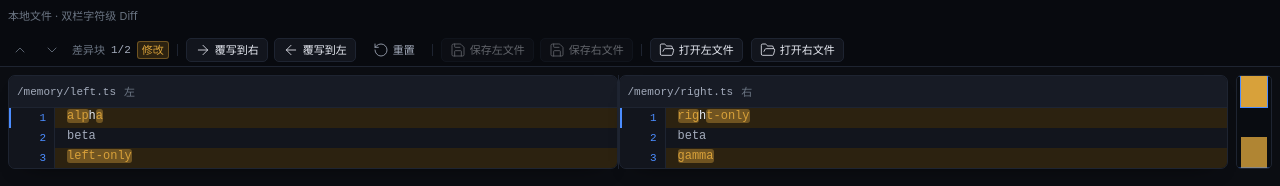
it: unsaved side labels › names exactly the dirty sides in Chinese
What coordinates should you click on to do the following:
click the button "覆写到左"
I would click on:
 (315, 50)
Its box is [274,38,356,62].
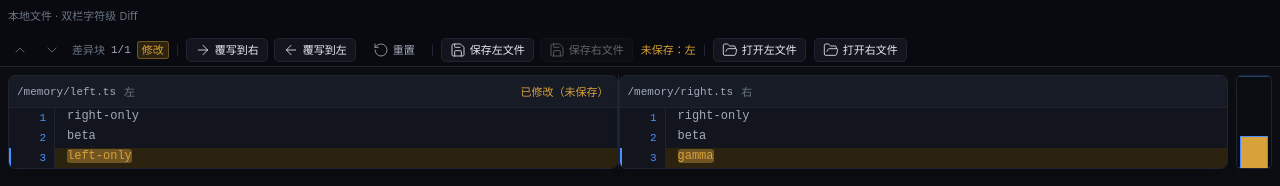
Result: the text "未保存：左" is shown at [641,42,696,58]
What coordinates should you click on to do the following:
click the button "重置"
I would click on:
 (394, 50)
Its box is [364,38,424,62].
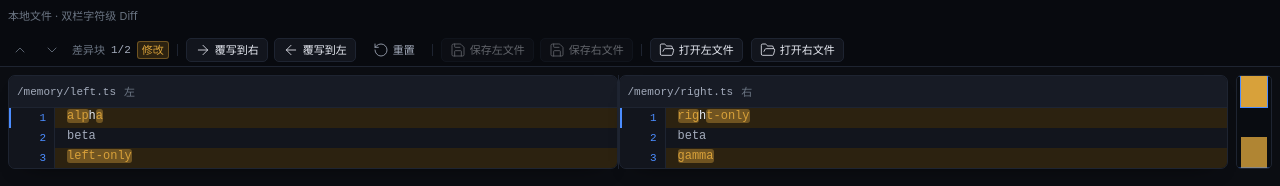
What coordinates should you click on to do the following:
click the button "覆写到右"
I would click on:
 (227, 50)
Its box is [186,38,268,62].
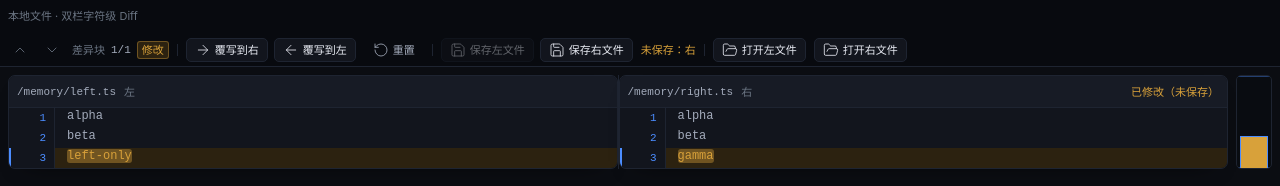
Result: the text "未保存：右" is shown at [641,42,696,58]
The remaining block is copied back to the left, so both sides diverge now.
What coordinates should you click on to do the following:
click the button "覆写到左"
I would click on:
 (315, 50)
Its box is [274,38,356,62].
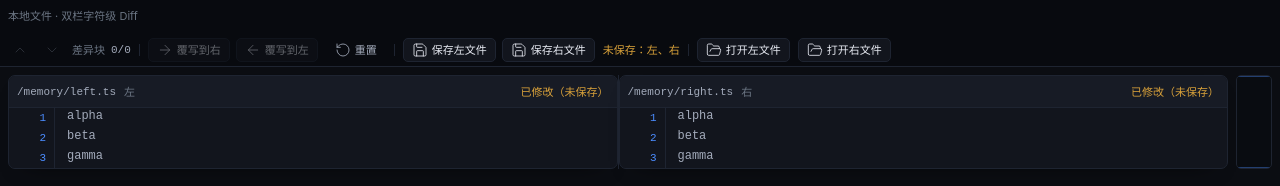
Result: the text "未保存：左、右" is shown at [603,42,680,58]
